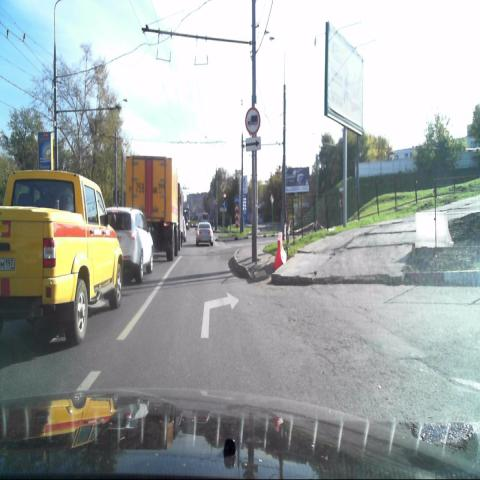8_3_1: (245, 136, 261, 150)
